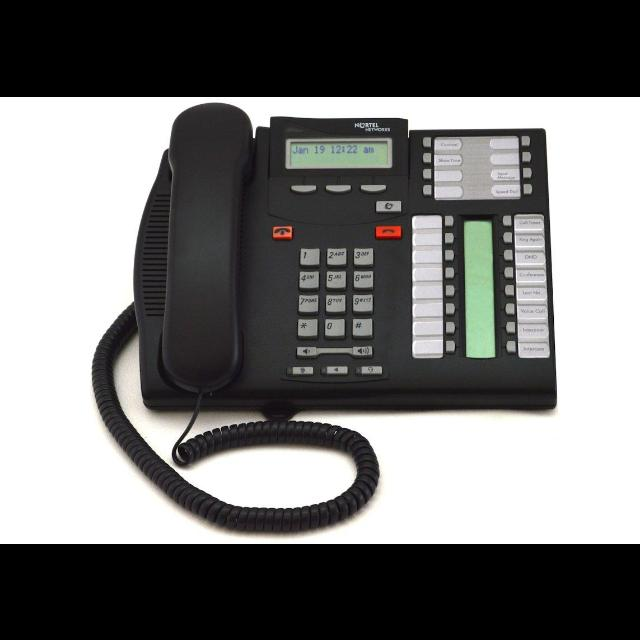Telephone-Set: (117, 102, 595, 452)
